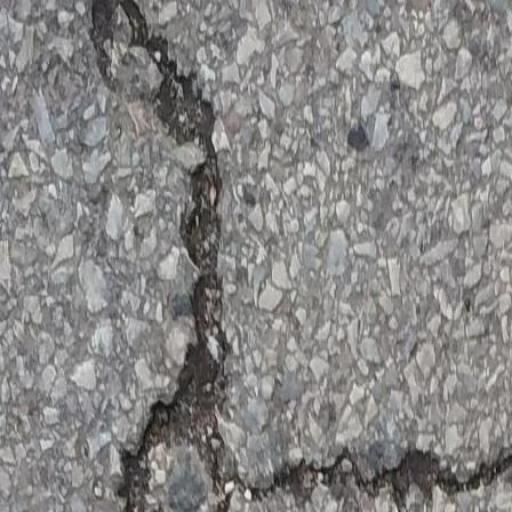spalling: (94, 0, 511, 512)
